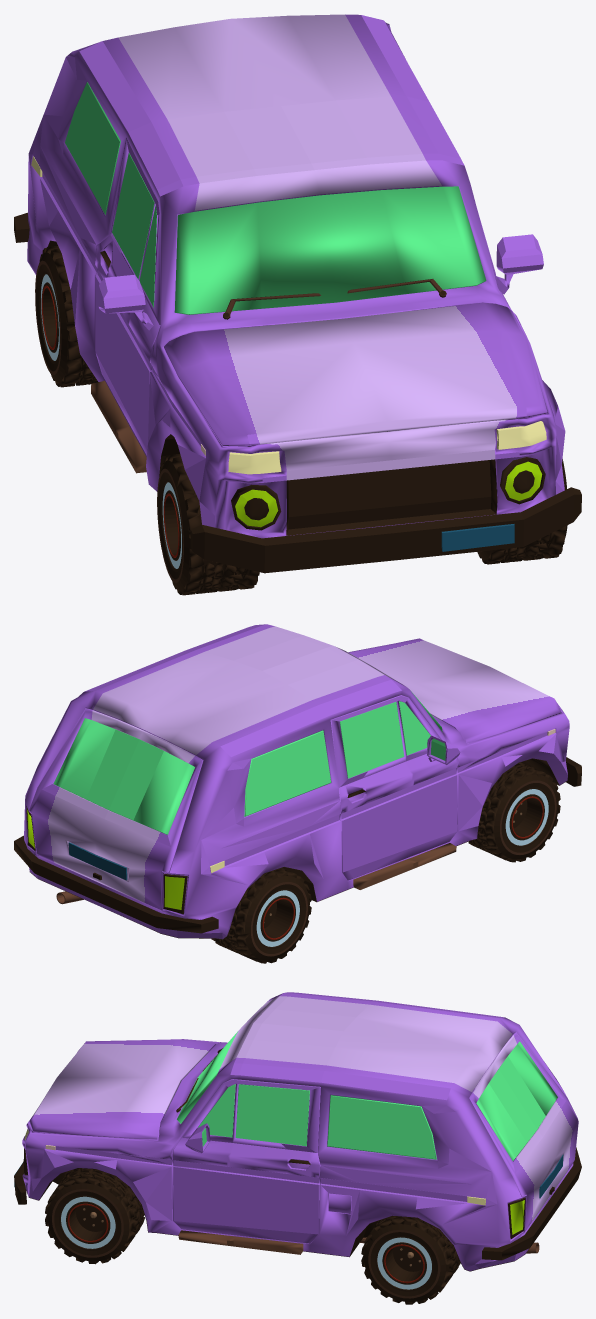
Rendered from ToyObject_086.fbx.
3 views of the same model, one above another, from view 1: azimuth 30°, elevation 25°; view 2: azimuth 150°, elevation 25°; view 3: azimuth 270°, elevation 25° (orthographic). The views are drawn at different scales.
Visible parts, largest first — view 1: object-1.038; view 2: object-1.038; view 3: object-1.038.
Part boxes in pixels (box(x1,y1,x2,y2)): object-1.038: box(14, 14, 581, 595); object-1.038: box(14, 624, 581, 963); object-1.038: box(14, 992, 581, 1304).
Size of the model in its own units: 0.1159 by 0.0681 by 0.1676.
Materials: 3 (1 with a texture image).
